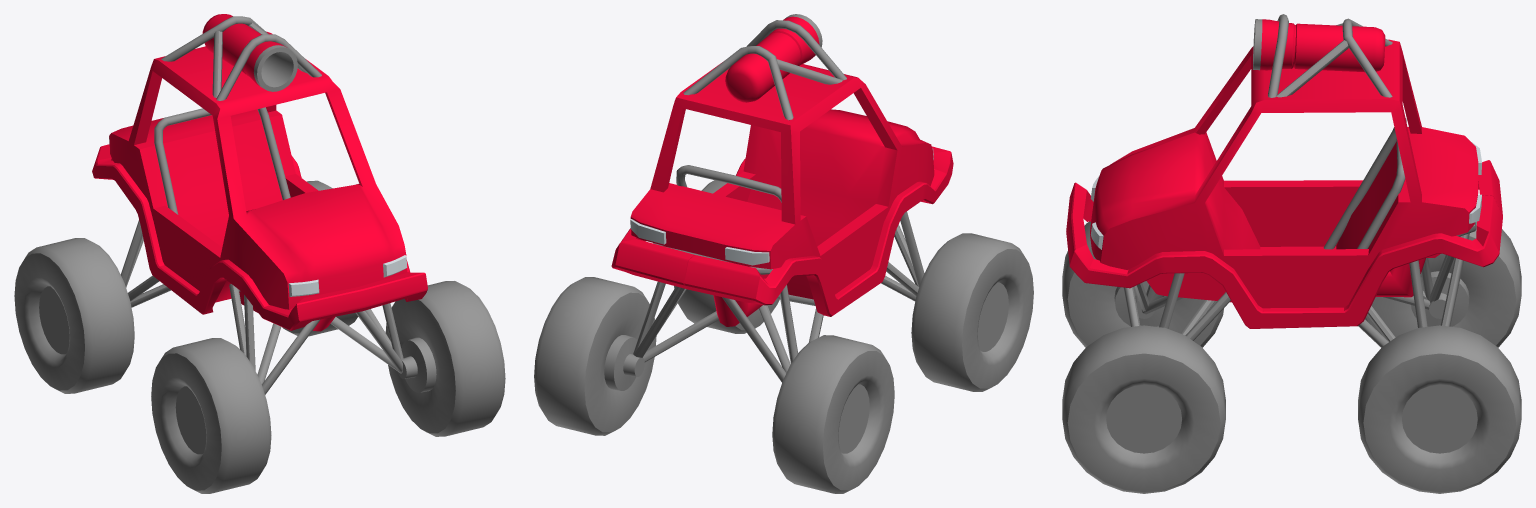
File: UTVTank.fbx
3 renders of one model, left to right at view 1: azimuth 30°, elevation 25°; view 2: azimuth 150°, elevation 25°; view 3: azimuth 270°, elevation 25°, orthographic. The views are drawn at different scales.
Parts seen in each view (by area): view 1: UTV, wheel3, wheel2, wheel1, bars, barrel, barrel_end, lights, wheel4; view 2: UTV, wheel3, wheel2, wheel4, bars, barrel, wheel1, lights; view 3: UTV, wheel1, wheel4, bars, wheel3, wheel2, barrel, lights.
Part boxes in pixels (x1=…): UTV: x1=92, y1=31, x2=427, y2=331; wheel3: x1=14, y1=238, x2=134, y2=393; wheel2: x1=151, y1=338, x2=271, y2=493; wheel1: x1=385, y1=281, x2=505, y2=436; bars: x1=120, y1=16, x2=403, y2=394; barrel: x1=202, y1=14, x2=286, y2=85; barrel_end: x1=253, y1=45, x2=297, y2=91; lights: x1=109, y1=136, x2=407, y2=296; wheel4: x1=282, y1=180, x2=358, y2=336; UTV: x1=611, y1=62, x2=953, y2=326; wheel3: x1=772, y1=335, x2=894, y2=493; wheel2: x1=911, y1=233, x2=1033, y2=391; wheel4: x1=534, y1=277, x2=656, y2=435; bars: x1=633, y1=20, x2=924, y2=382; barrel: x1=725, y1=16, x2=819, y2=102; wheel1: x1=674, y1=180, x2=779, y2=333; lights: x1=630, y1=148, x2=933, y2=265; UTV: x1=1066, y1=39, x2=1502, y2=328; wheel1: x1=1062, y1=325, x2=1225, y2=493; wheel4: x1=1358, y1=325, x2=1521, y2=493; bars: x1=1123, y1=14, x2=1476, y2=347; wheel3: x1=1365, y1=221, x2=1521, y2=347; wheel2: x1=1062, y1=221, x2=1223, y2=347; barrel: x1=1260, y1=19, x2=1385, y2=72; lights: x1=1090, y1=142, x2=1481, y2=249.
Size of the model in its own units: 120 by 149 by 153.
